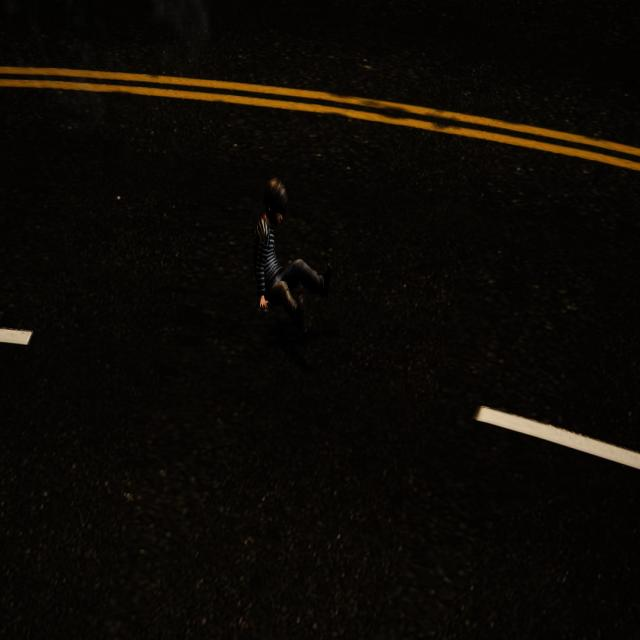Human: (249, 171, 341, 325)
